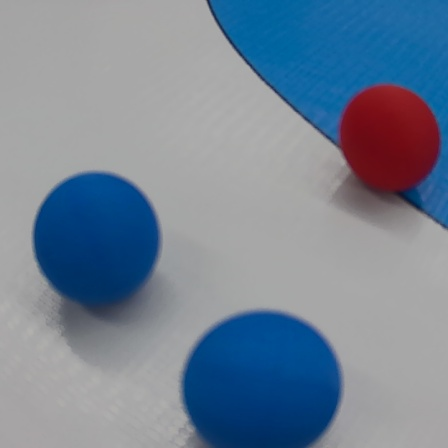blue: (179, 311, 351, 447), (32, 173, 168, 310)
blue_base: (205, 1, 448, 231)
red: (340, 86, 440, 198)
